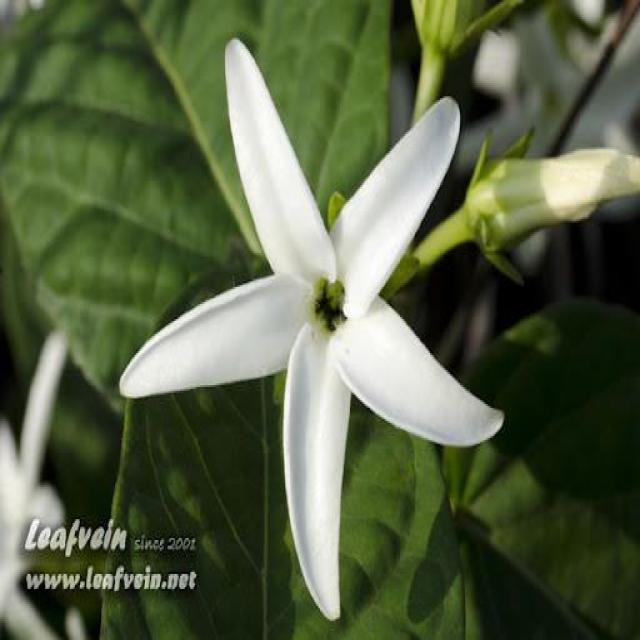organic waste: (118, 24, 508, 618)
